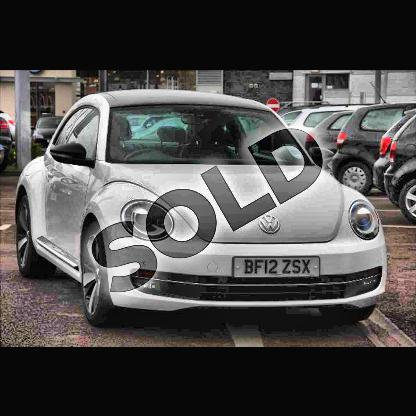Volkswagen Beetle Hatchback 2012: (16, 90, 386, 328)
